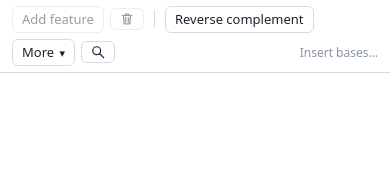
Test: EditBar (#292) › has Style, Case, Set origin and Make linear in the More group, which More opens
This screenshot has width=390, height=175.
Click the button "More ▾".
click(44, 52)  # box x1=12 y1=39 x2=75 y2=66
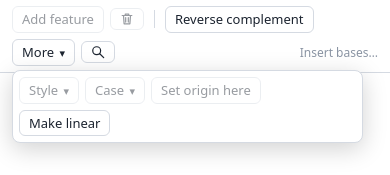
Check: the element with class "editbar__more-items" is shown, box x1=12 y1=70 x2=363 y2=143
